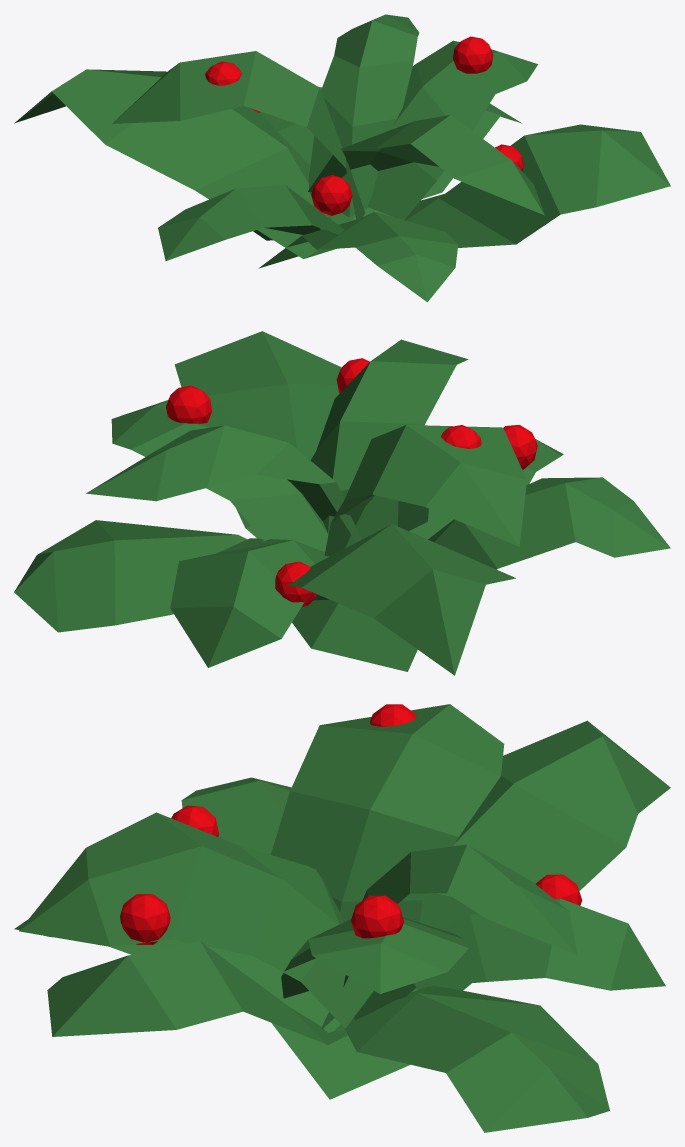
The model's file is bush_berry.fbx.
3 views of the same model, one above another, from view 1: azimuth 30°, elevation 25°; view 2: azimuth 150°, elevation 25°; view 3: azimuth 270°, elevation 25° (orthographic). The views are drawn at different scales.
Parts seen in each view (by area): view 1: Icosphere; view 2: Icosphere; view 3: Icosphere.
Part boxes in pixels (left/top/right/bottom): Icosphere: left=14, top=14, right=670, bottom=302; Icosphere: left=14, top=331, right=670, bottom=675; Icosphere: left=14, top=704, right=670, bottom=1132.
Bounding box in the file's own units: 577 × 266 × 558.
